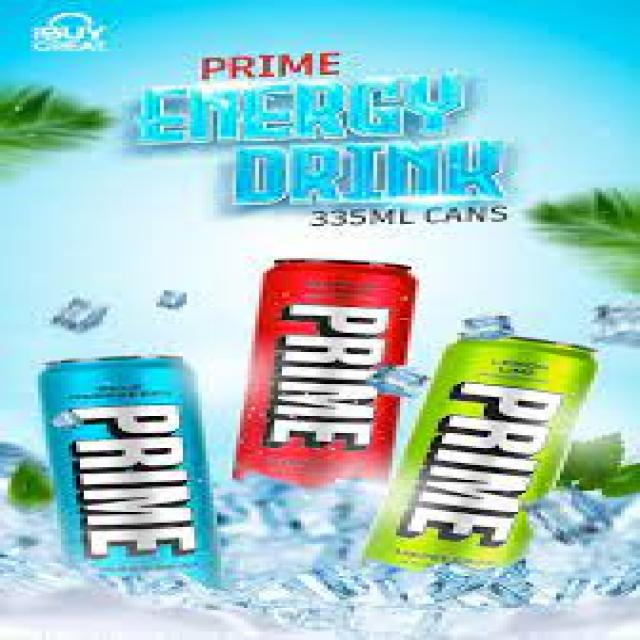Cans: (362, 318, 602, 582), (30, 346, 228, 593), (229, 245, 419, 495)
